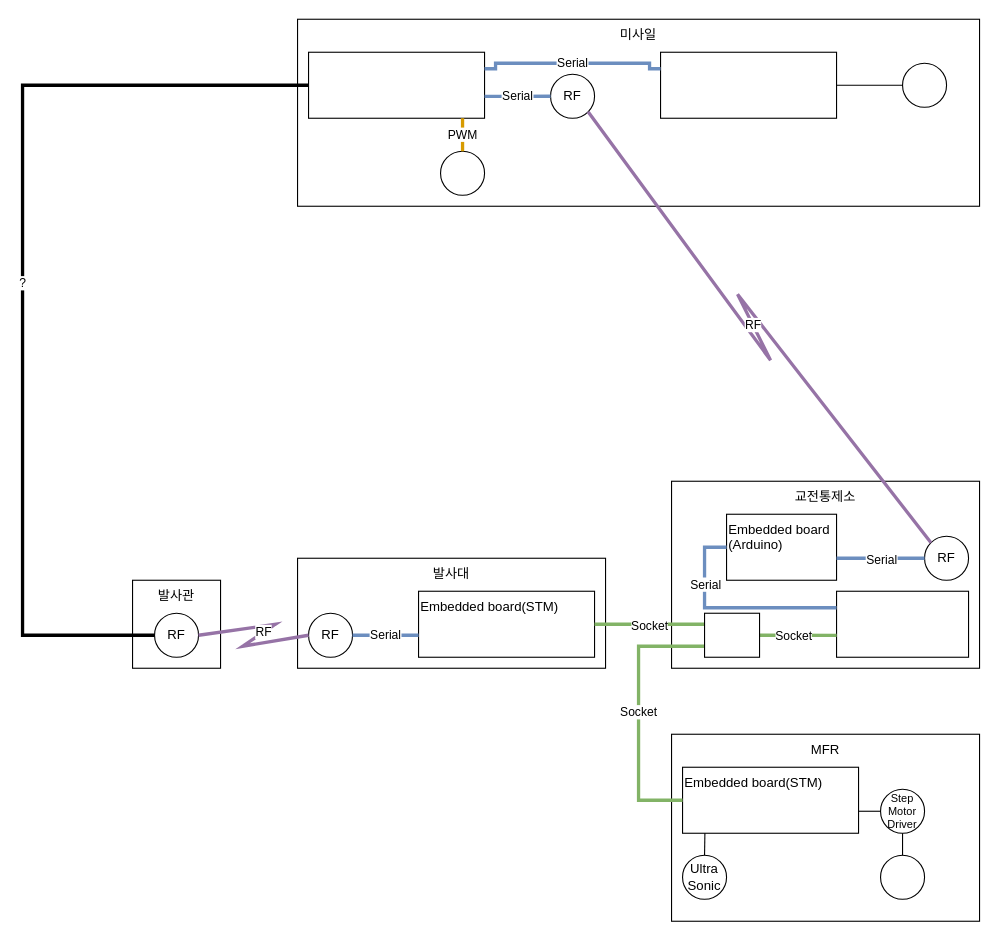
The diagram is 999 pixels wide and 941 high, and some of its shapes have lost their labels. The centre of each missing label's shape, as x and y in pixels:
"Camera" goes at (x=924, y=84).
"Embedded board(?)" goes at (x=748, y=84).
"Embedded board(Arduino)" goes at (x=396, y=84).
"modem" goes at (x=731, y=634).
"Servo Motor" goes at (x=462, y=172).
"Step Motor" goes at (x=902, y=876).
"통제소 PC" goes at (x=902, y=623).
